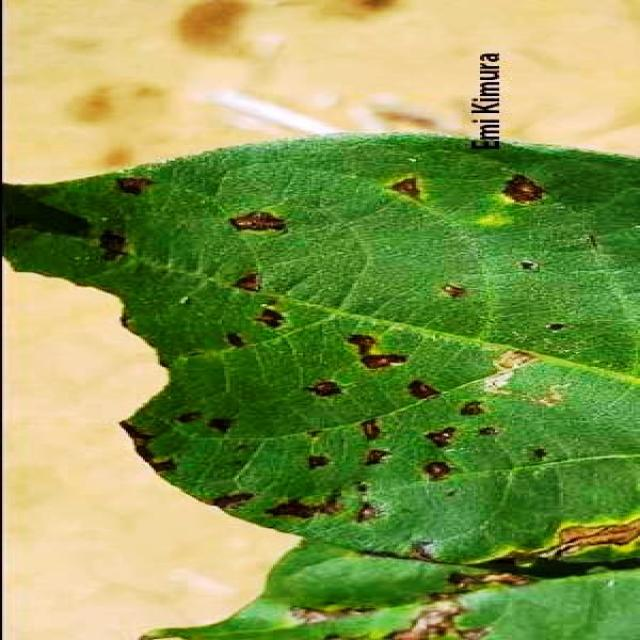Bacterial Blight: (73, 191, 485, 530)
